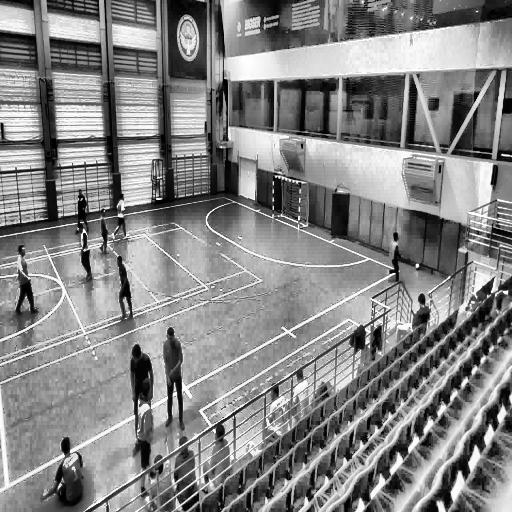ball: (415, 261, 422, 273)
player: (40, 436, 85, 507), (138, 431, 174, 512), (132, 377, 155, 491), (163, 324, 186, 431), (172, 435, 200, 505), (14, 243, 40, 318), (203, 426, 231, 480), (264, 380, 288, 434), (288, 368, 310, 425), (117, 253, 134, 321), (80, 221, 93, 282), (74, 186, 90, 234), (113, 192, 129, 239), (388, 231, 400, 282), (99, 207, 109, 255)
